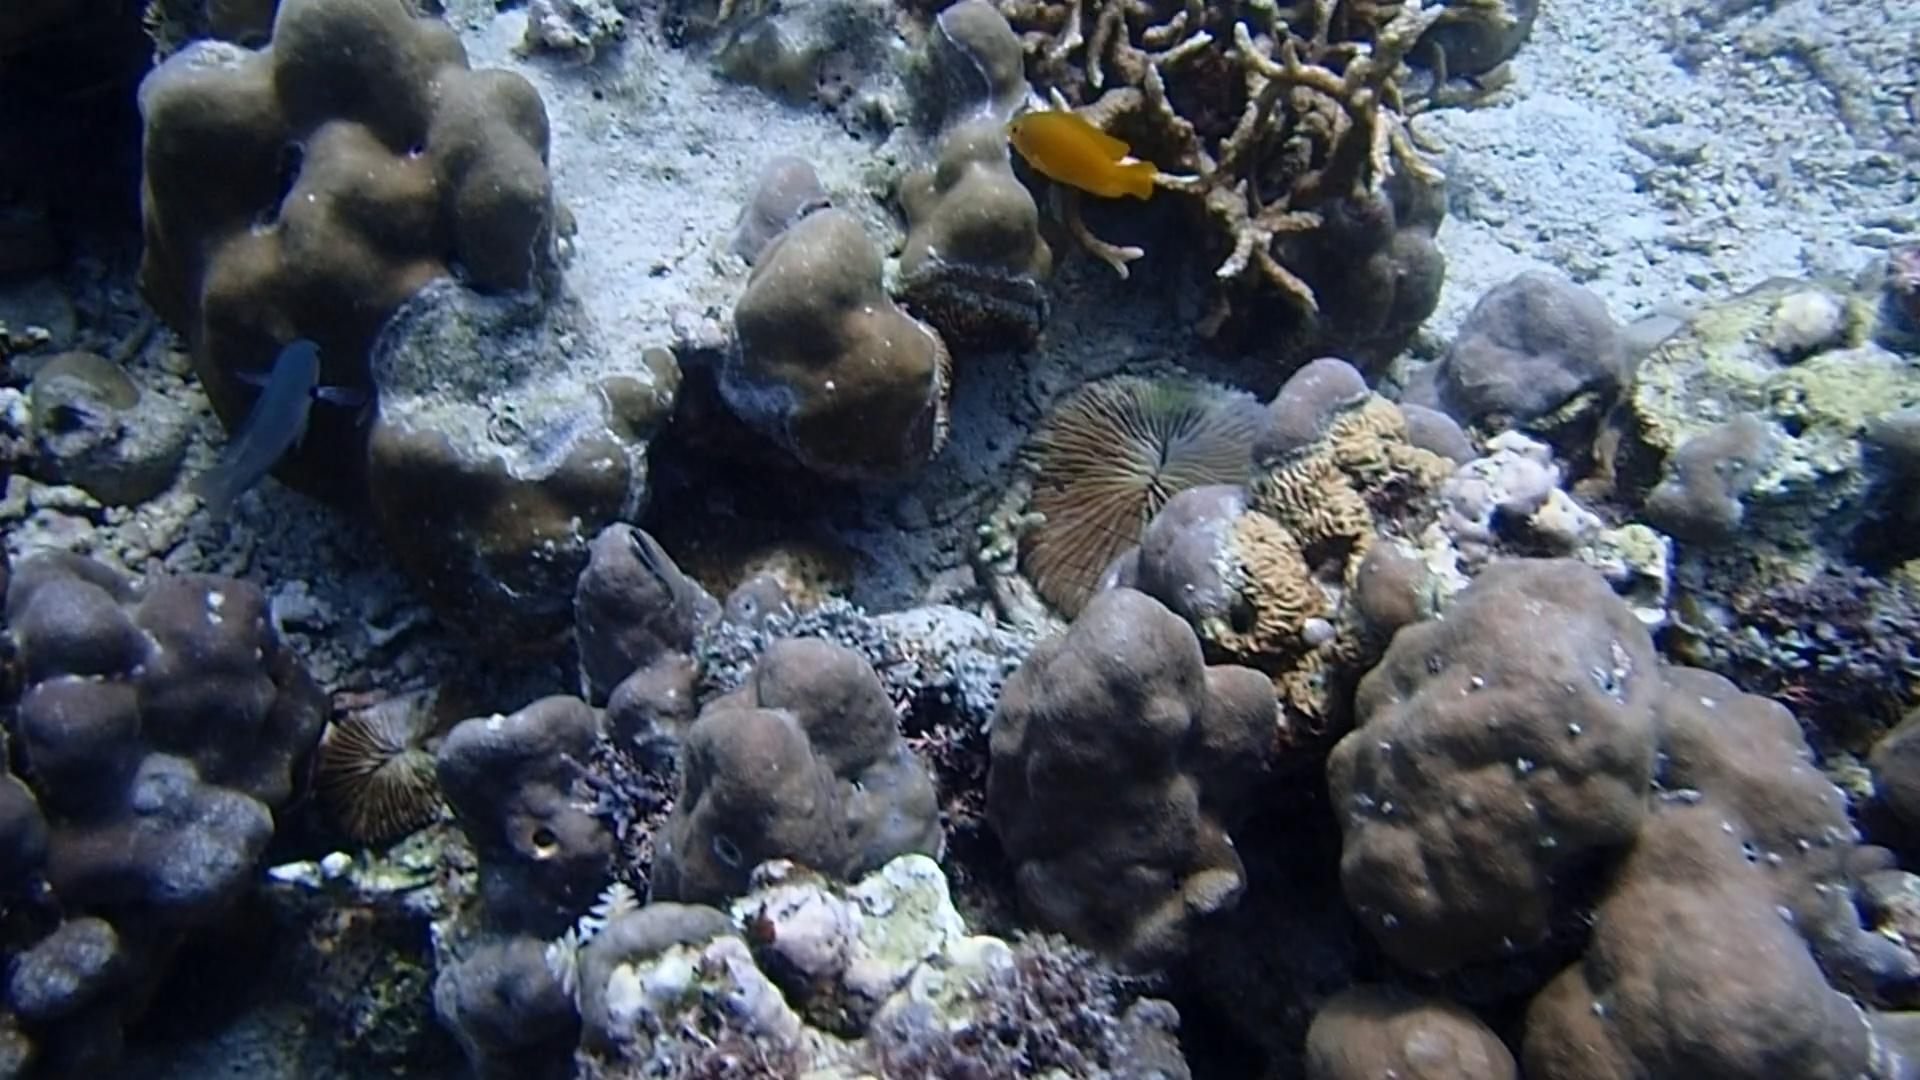Blue Fish Two: (175, 330, 360, 533)
Yellow Fish: (984, 98, 1164, 211)
